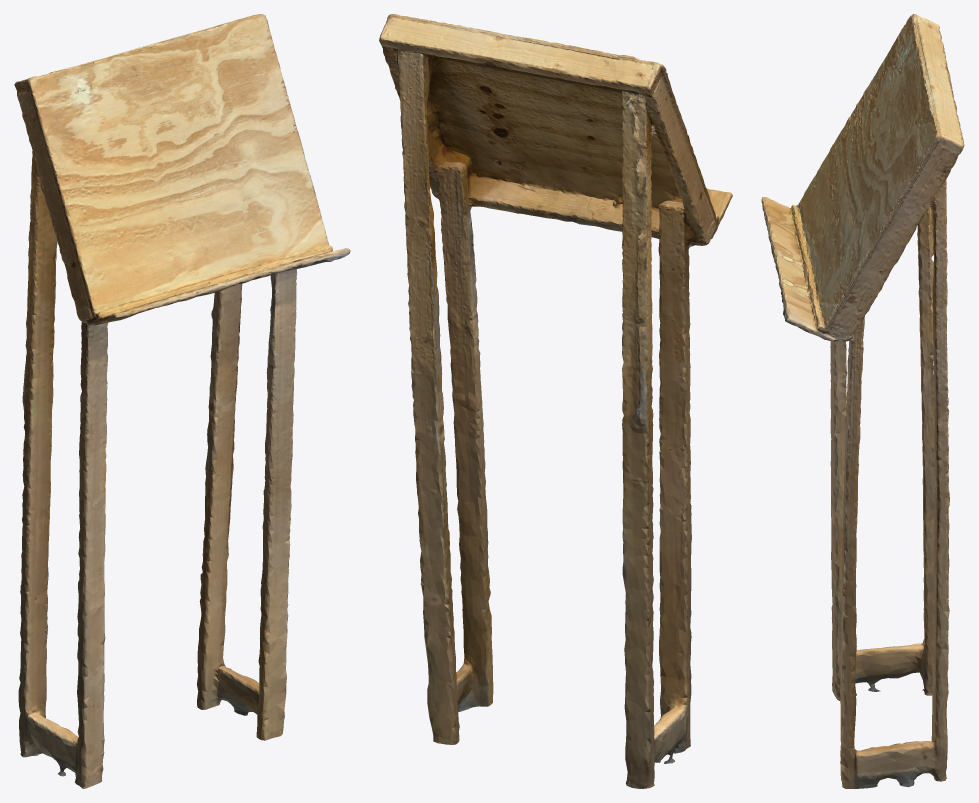
File: Altaar.glb
3 renders of one model, left to right at view 1: azimuth 30°, elevation 25°; view 2: azimuth 150°, elevation 25°; view 3: azimuth 270°, elevation 25°, orthographic. The views are drawn at different scales.
Size of the model in its own units: 0.5185 by 1.3 by 0.3577.
1 material, 1 textured.
